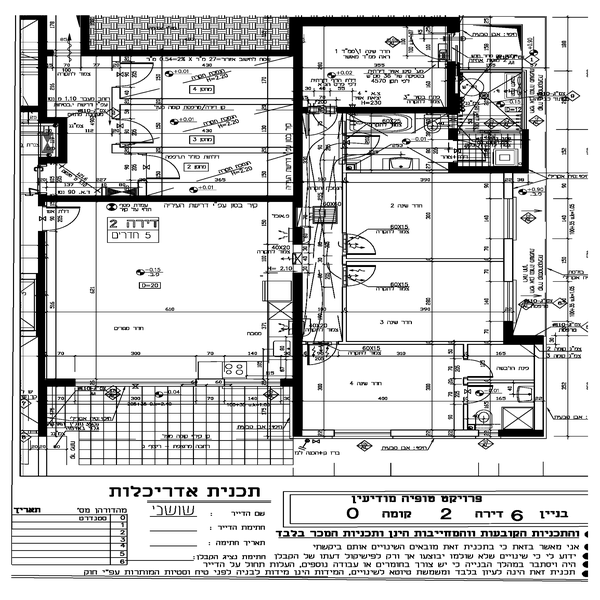door: (119, 52, 172, 90), (112, 110, 157, 148), (338, 261, 388, 295), (466, 356, 498, 406), (47, 197, 86, 238), (296, 339, 345, 367), (140, 147, 181, 180), (344, 229, 384, 259)
room: (24, 185, 309, 387), (37, 47, 310, 202), (297, 15, 463, 115), (444, 61, 533, 177)
wall: (289, 12, 314, 213), (87, 45, 297, 65), (34, 230, 53, 440), (43, 187, 295, 202), (298, 8, 464, 24), (331, 107, 474, 121), (444, 159, 534, 175)
